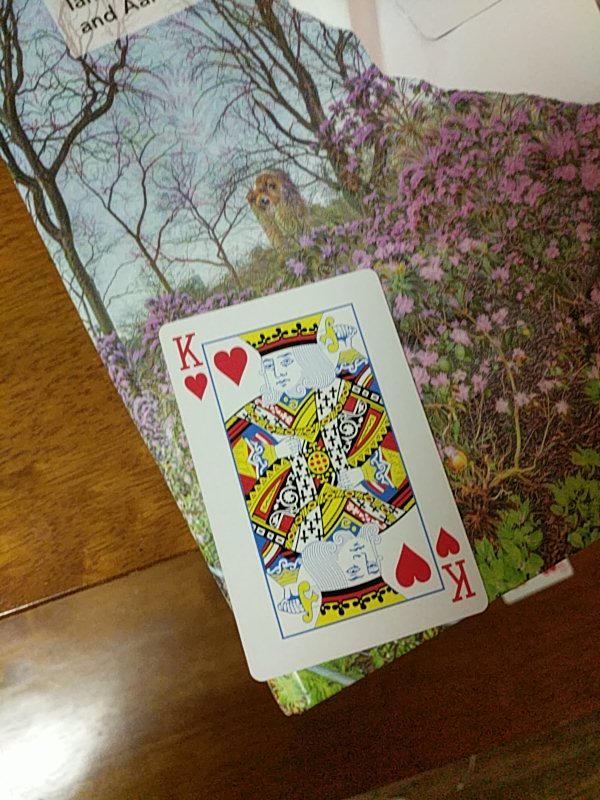Hearts: (161, 265, 489, 681)
